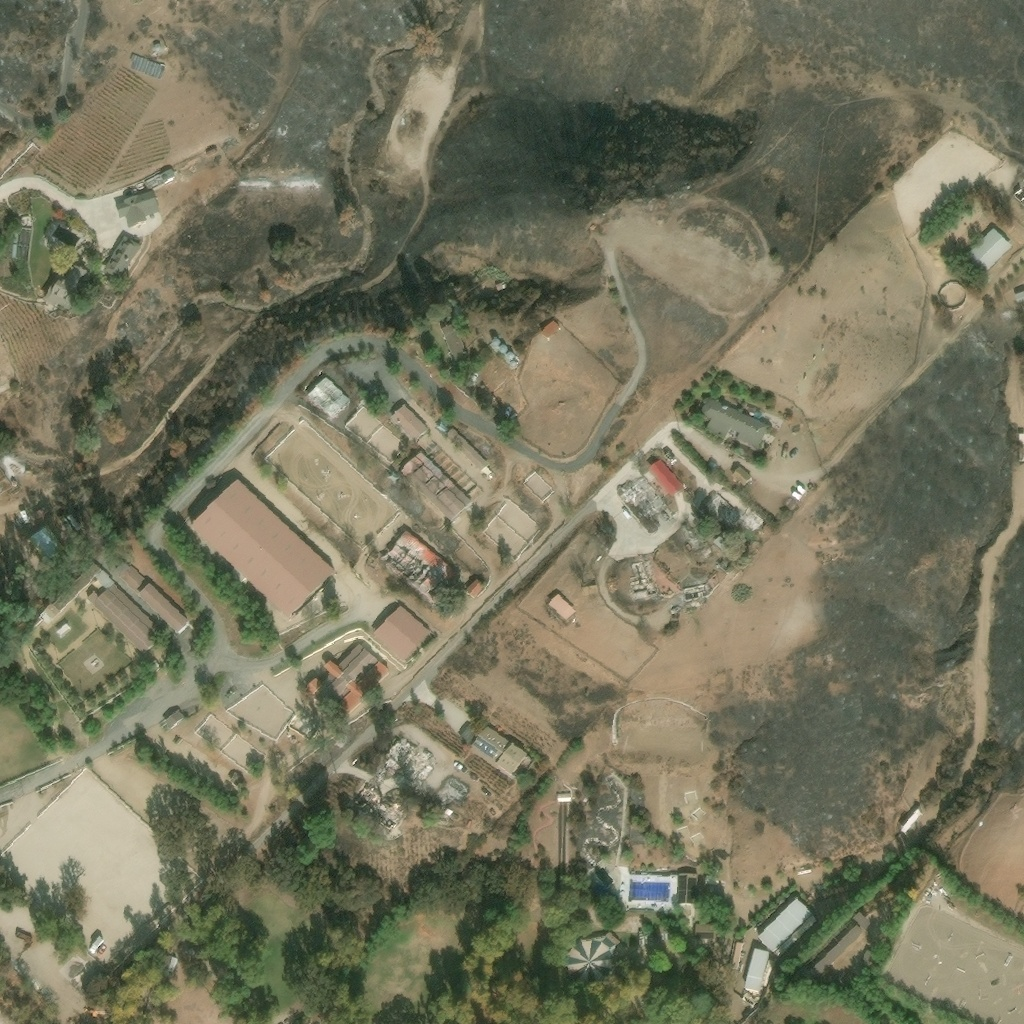0 no-damage: (190, 478, 336, 617), (306, 642, 391, 723), (87, 583, 165, 655), (372, 604, 435, 665), (699, 397, 769, 450), (757, 896, 815, 952), (809, 924, 864, 980), (137, 581, 191, 634), (51, 562, 103, 612), (965, 227, 1013, 274), (43, 264, 92, 310), (446, 426, 488, 471), (390, 401, 430, 442), (117, 191, 161, 228), (104, 235, 141, 279), (648, 458, 685, 496), (745, 947, 775, 990), (29, 527, 64, 562), (497, 743, 530, 777), (441, 323, 468, 361), (546, 593, 577, 625), (132, 54, 164, 80), (120, 565, 148, 594), (146, 169, 177, 191), (900, 807, 923, 833), (538, 319, 562, 342), (730, 941, 747, 969), (92, 570, 114, 591), (466, 578, 486, 599), (164, 709, 184, 730), (732, 465, 752, 485), (853, 912, 870, 930), (66, 513, 82, 532), (741, 990, 759, 1006), (695, 924, 714, 939), (860, 949, 876, 966), (436, 421, 450, 436), (35, 505, 50, 519), (794, 485, 807, 498), (482, 466, 495, 478), (790, 490, 802, 502), (557, 794, 572, 803), (1014, 291, 1023, 304), (499, 345, 508, 355), (496, 281, 507, 289), (506, 352, 515, 361), (492, 338, 501, 347), (154, 44, 162, 52), (511, 362, 516, 368)
1 minor-damage: (308, 375, 352, 421), (472, 725, 512, 764), (718, 557, 732, 571), (388, 471, 401, 486)
2 major-damage: (381, 525, 460, 603), (399, 449, 473, 523), (706, 492, 742, 527), (630, 580, 658, 602)
3 destroyed: (366, 739, 430, 799), (623, 475, 668, 516), (367, 787, 394, 812), (631, 558, 653, 584), (435, 786, 458, 808), (447, 776, 469, 797), (682, 584, 709, 601), (744, 509, 763, 527)
4 un-classified: (643, 208, 657, 228), (703, 200, 722, 208), (668, 218, 679, 229), (1008, 311, 1018, 320)
